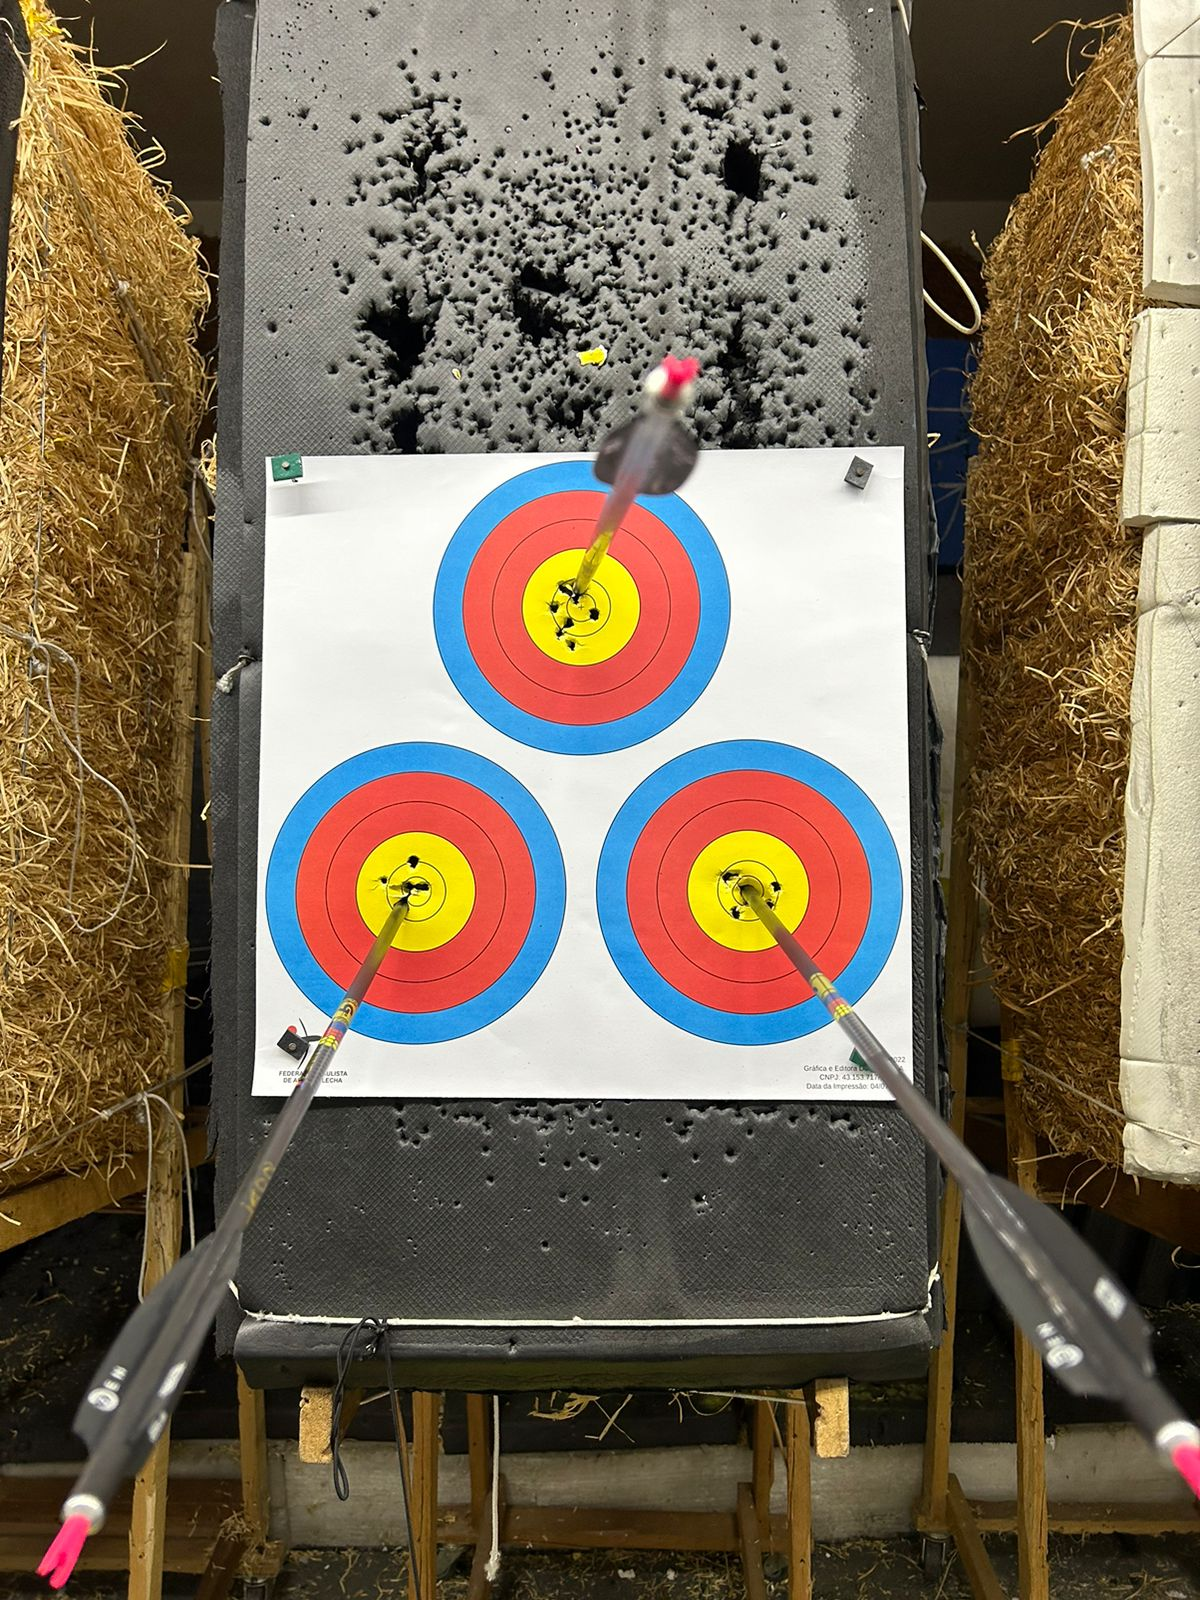10: (277, 742, 584, 1065), (610, 745, 904, 1070)
9 linha 10: (432, 472, 735, 742)
